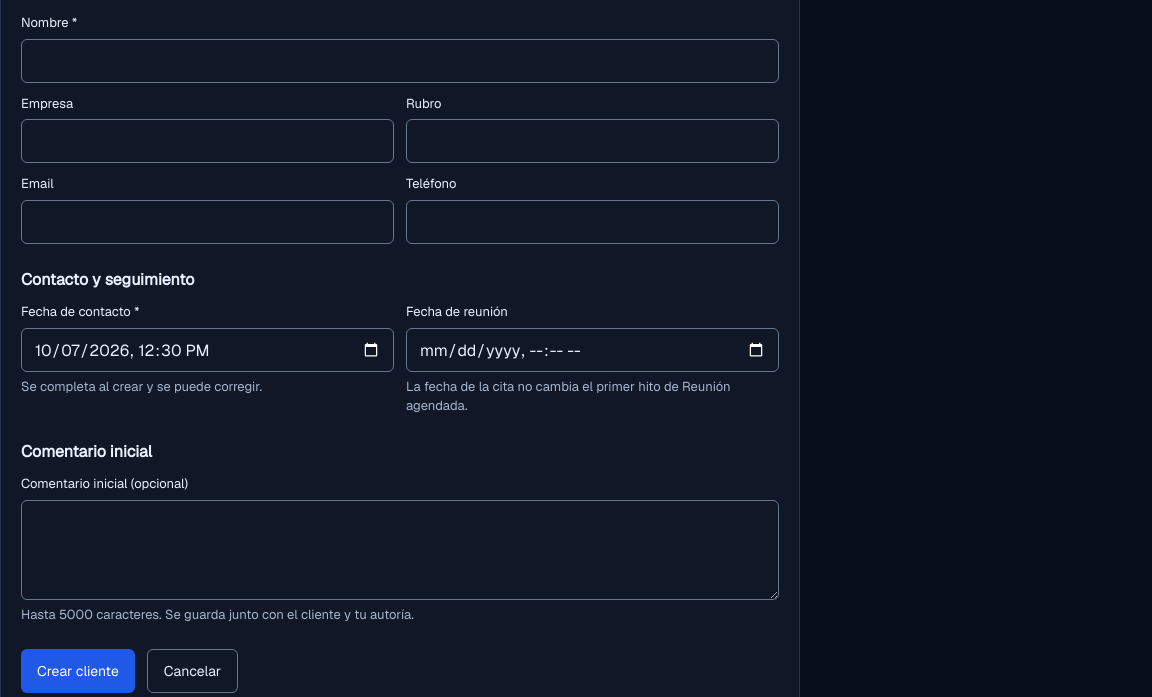
Test: approved client form interaction › does not navigate an unconfirmed success outcome
(page scrolled)
Click the button "Crear cliente" at coordinates (78, 671), box [21,649,135,693]
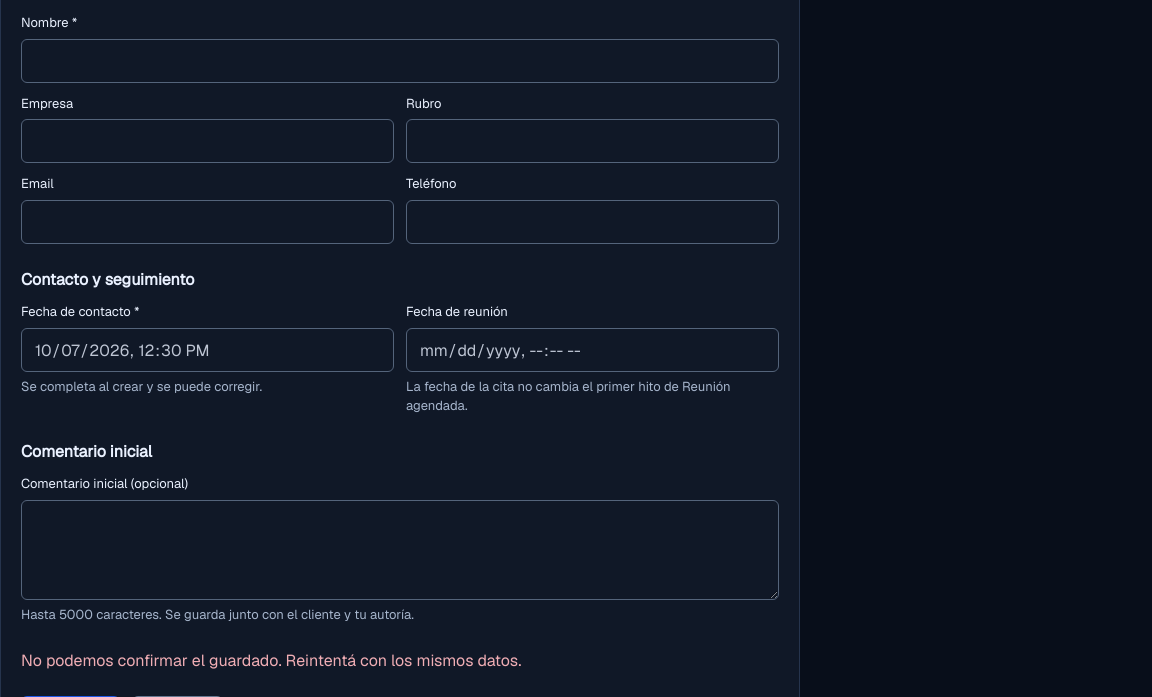
Expected: the message "No podemos confirmar el guardado. Reintentá con los mismos datos." is shown, [21,650,521,671]
